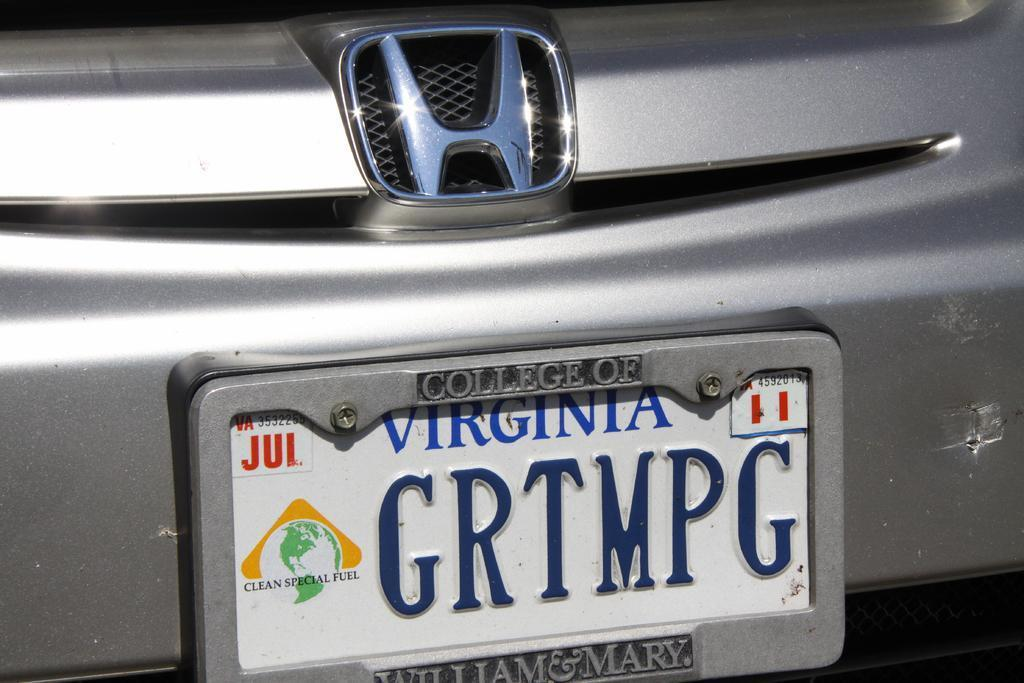Number plate: (183, 358, 866, 665)
